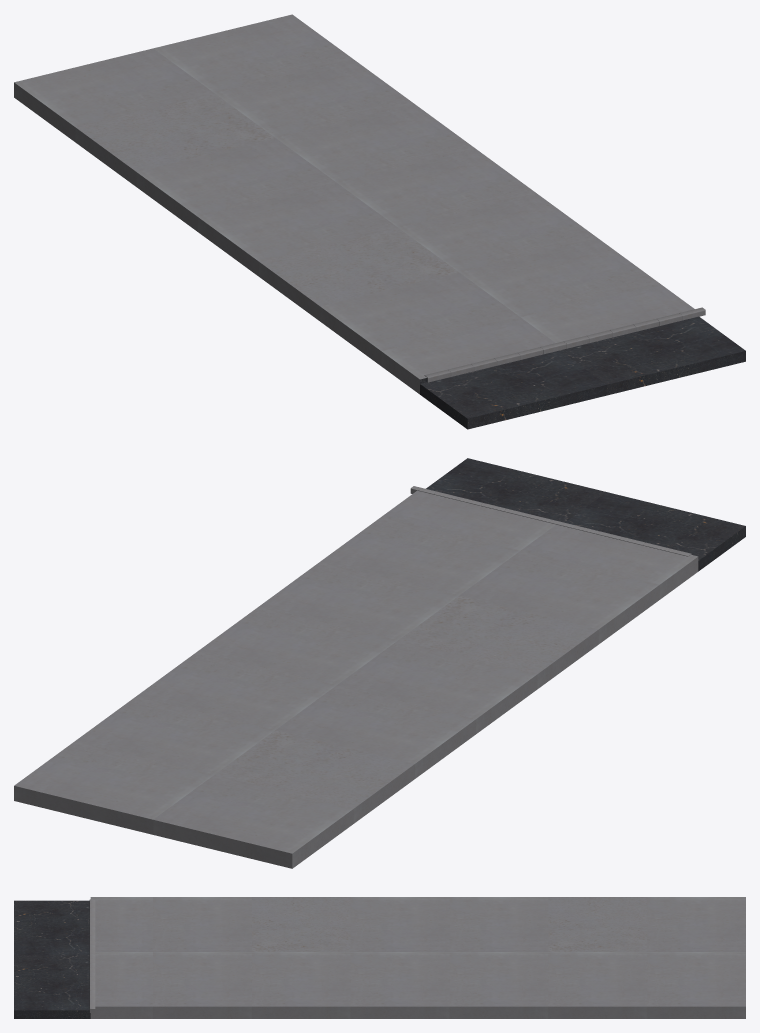
File: dongasilk_Ground.fbx
3 renders of one model, top to bottom at view 1: azimuth 30°, elevation 25°; view 2: azimuth 150°, elevation 25°; view 3: azimuth 270°, elevation 25°, orthographic. The views are drawn at different scales.
Visible parts, largest first — view 1: GroundFloor, BaseStone; view 2: GroundFloor, BaseStone; view 3: GroundFloor, BaseStone.
Boxes of the visible parts, x1=… form: GroundFloor: x1=14, y1=14, x2=745, y2=429; BaseStone: x1=424, y1=307, x2=705, y2=382; GroundFloor: x1=14, y1=458, x2=745, y2=868; BaseStone: x1=410, y1=486, x2=691, y2=556; GroundFloor: x1=14, y1=897, x2=745, y2=1018; BaseStone: x1=89, y1=899, x2=95, y2=1012.
Bounding box in the file's own units: 1284 × 68.19 × 3539.
Materials: 1 (1 with a texture image).
